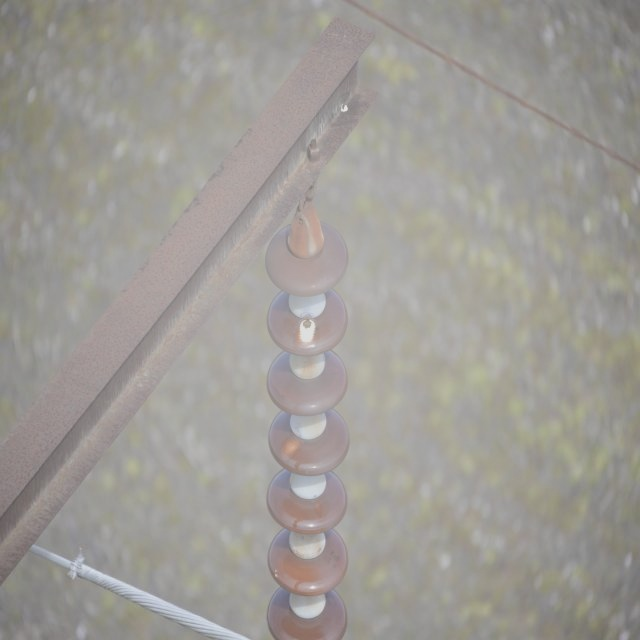insulator: (263, 222, 348, 636)
